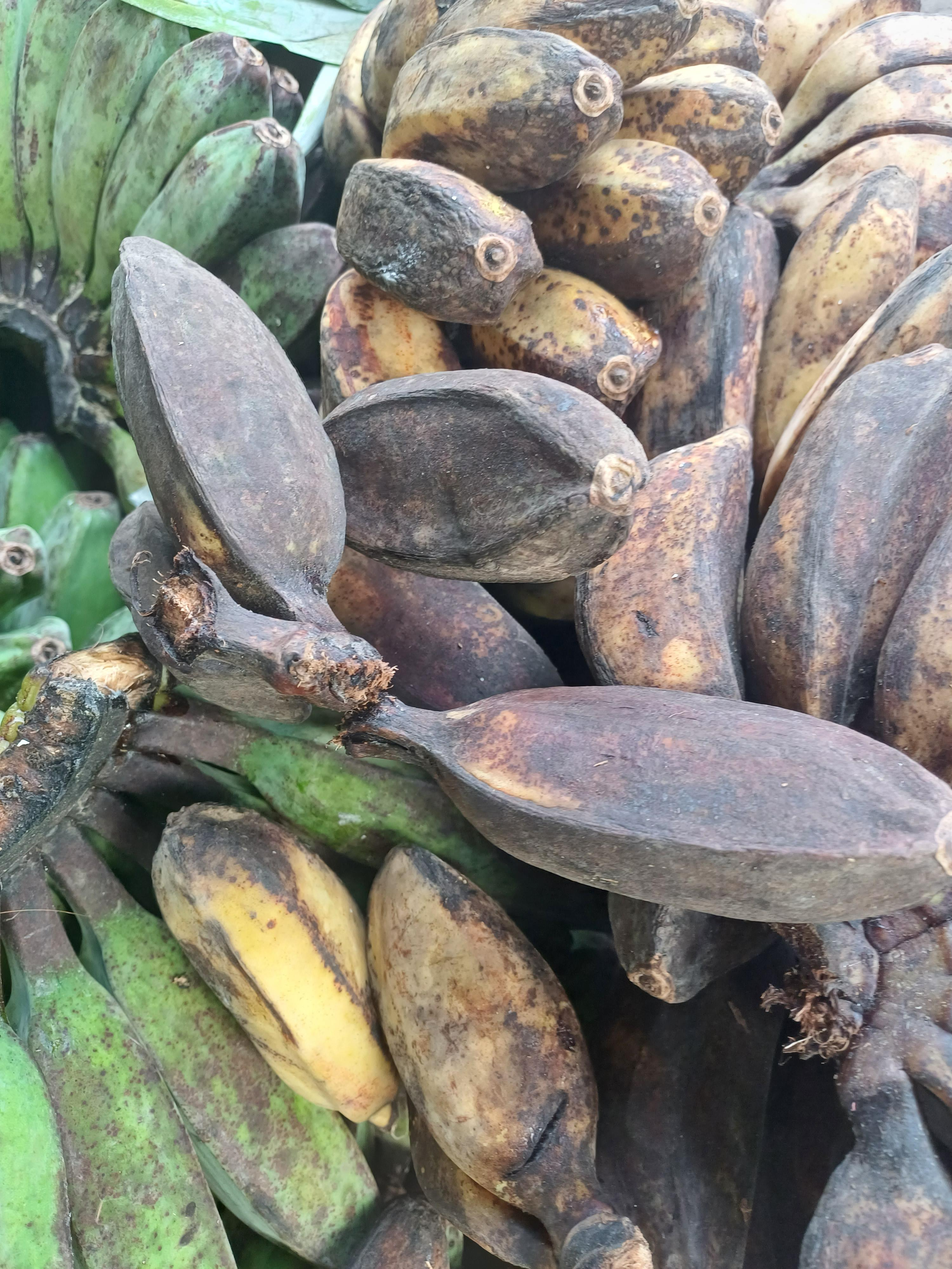overripe: (108, 233, 952, 930), (577, 166, 952, 797), (582, 891, 950, 1269)
ripe: (321, 0, 787, 418), (366, 842, 598, 1269), (724, 0, 952, 260)
underripe: (0, 896, 381, 1269), (0, 0, 343, 374)
